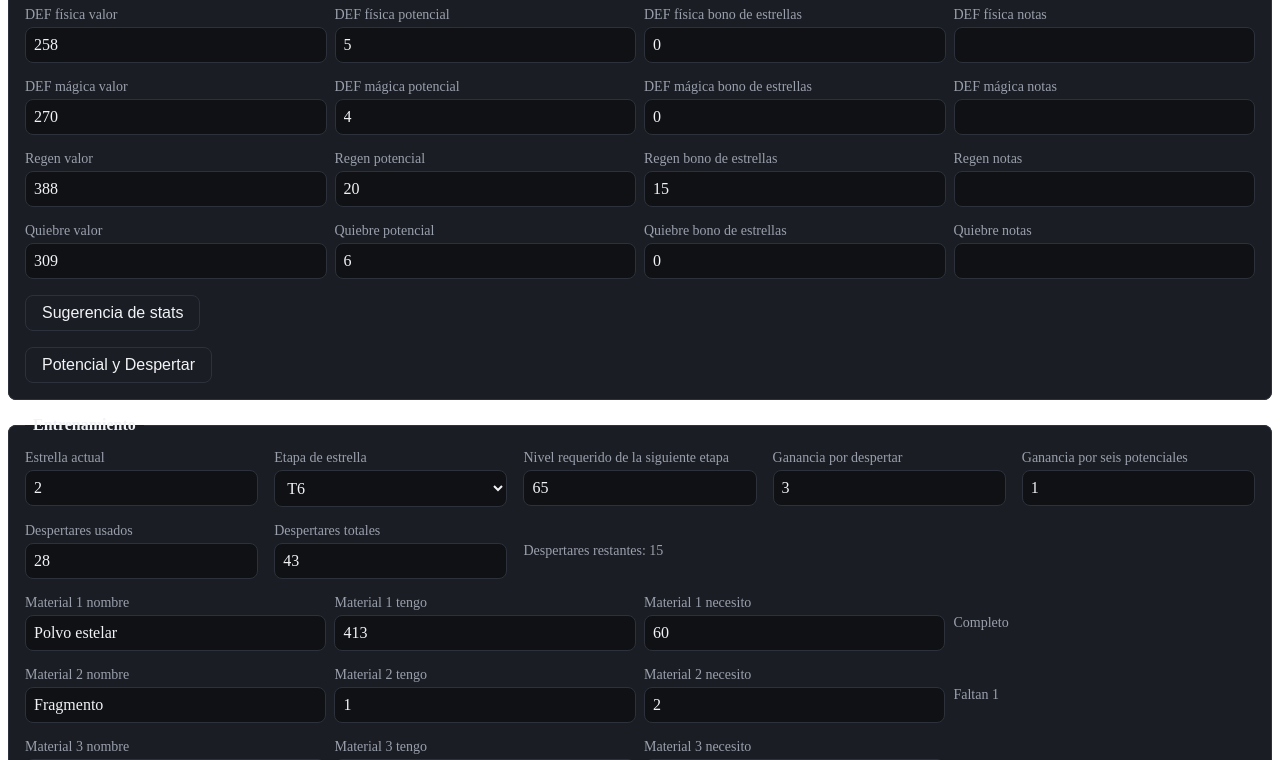
it: calcular potencial › manda el pedido de Irisalis con el objeto elegido y la fecha de la ficha
(page scrolled)
What coordinates should you click on to do the following:
click the button "Potencial y Despertar"
I would click on:
 (118, 365)
Its box is [25,347,212,383].
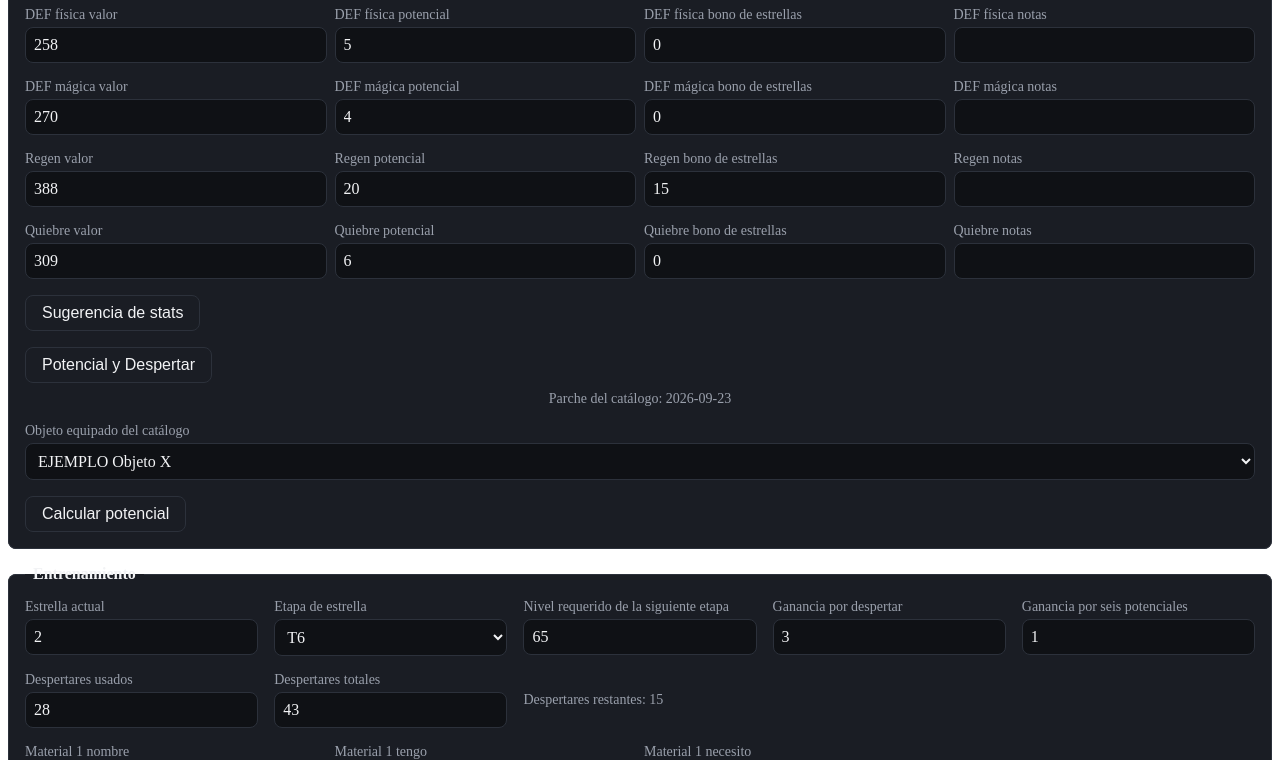
Expected: the button "Calcular potencial" is shown
What coordinates should you click on to do the following:
click the button "Calcular potencial"
I would click on:
 (106, 514)
Its box is [25,496,186,532].
(page scrolled)
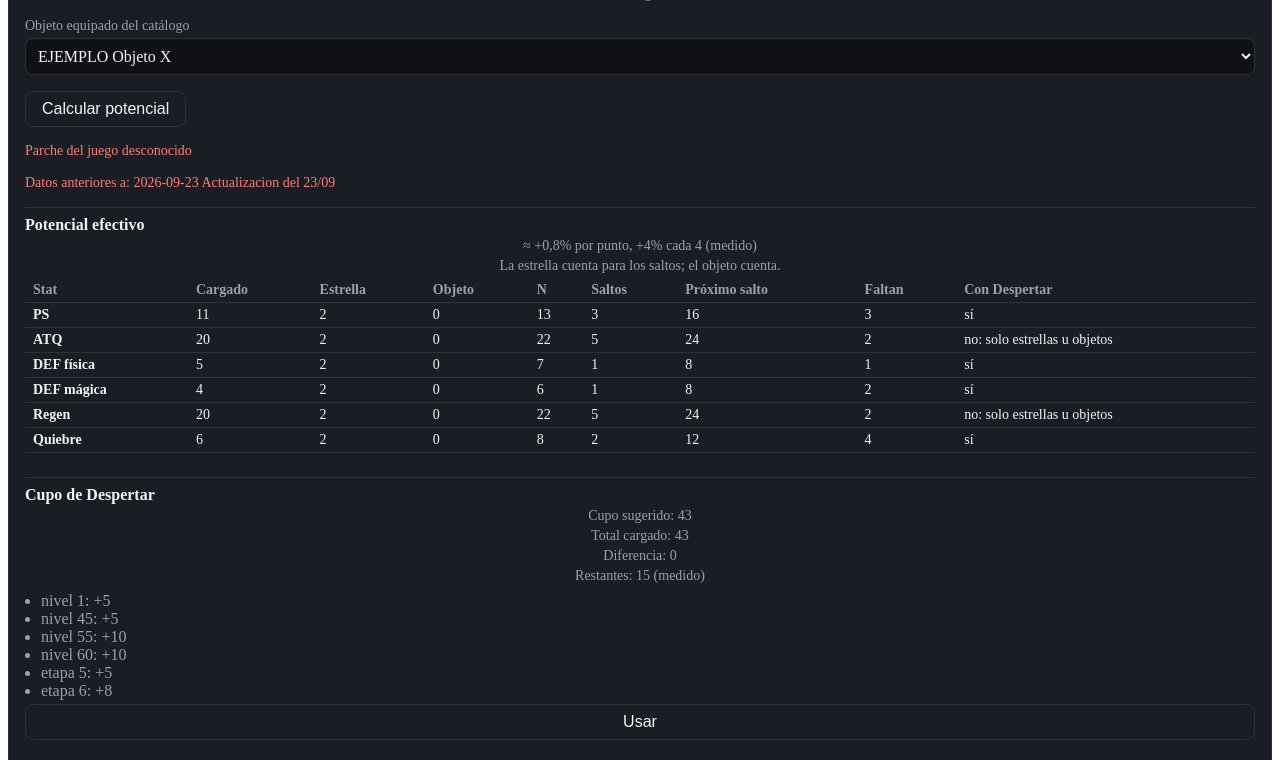
Expected: the table named "Potencial efectivo por stat" is shown, [25,278,1255,453]
